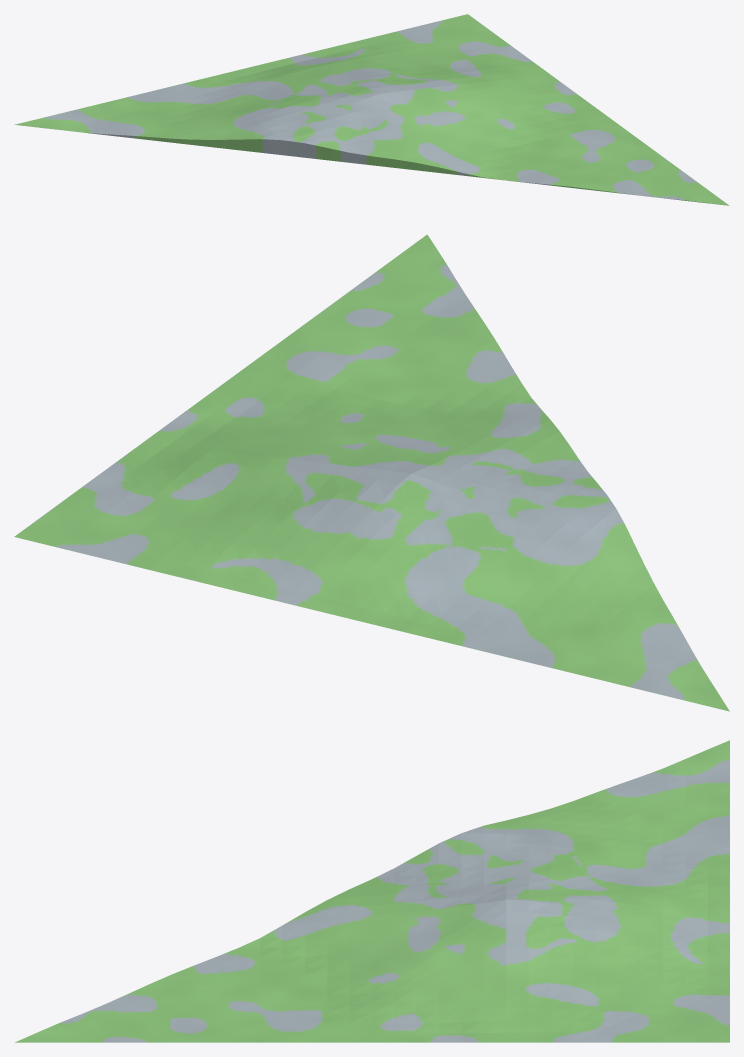
The model's file is Grass_RockyGround_05_SE.obj.
3 views of the same model, one above another, from view 1: azimuth 30°, elevation 25°; view 2: azimuth 150°, elevation 25°; view 3: azimuth 270°, elevation 25° (orthographic). The views are drawn at different scales.
Bounding box in the file's own units: 10 × 0.4577 × 10.
1 material, 1 textured.
